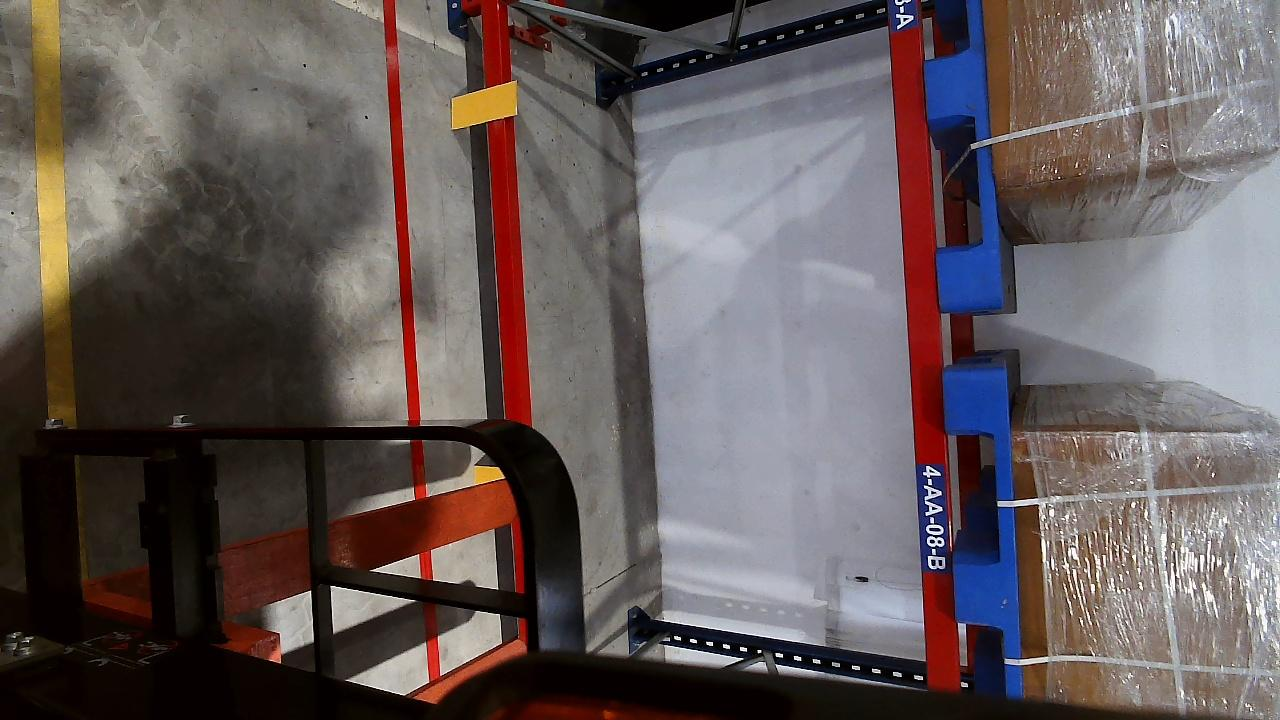h_rack: (889, 0, 954, 690), (458, 0, 531, 418)
orange_strip: (450, 82, 519, 129), (472, 466, 506, 485)
red_line: (380, 0, 443, 679)
small_pallet: (917, 0, 1007, 305), (942, 375, 1027, 690)
yellow_line: (31, 0, 74, 425)
